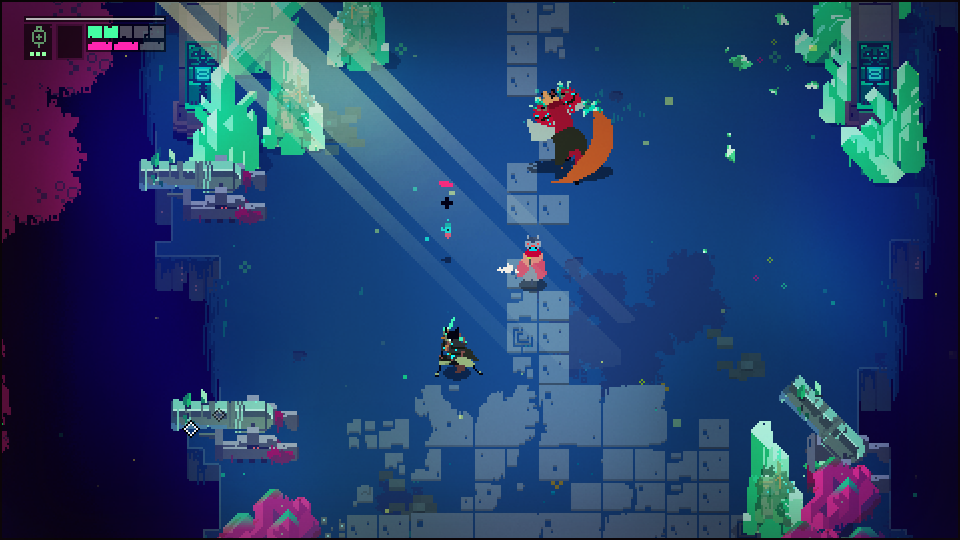hanged_man: (525, 90, 614, 169)
player: (520, 235, 548, 288)
